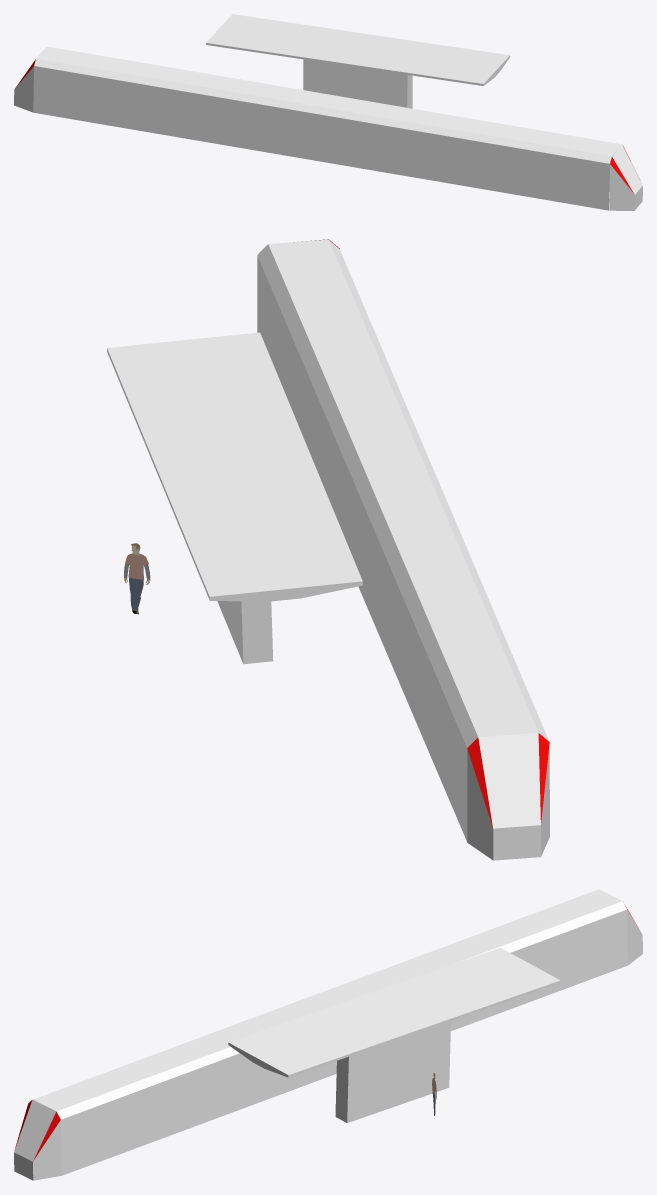
Rendered from 3D-Tram.gltf.
3 renders of one model, top to bottom at view 1: azimuth 30°, elevation 25°; view 2: azimuth 150°, elevation 25°; view 3: azimuth 270°, elevation 25°, orthographic. The views are drawn at different scales.
Visible parts, largest first — view 1: Layer0_001; view 2: Layer0_001, Bryce_003; view 3: Layer0_001.
Boxes of the visible parts, x1,y1,x2,y2 form: Layer0_001: [14, 14, 642, 210]; Layer0_001: [107, 239, 549, 860]; Bryce_003: [124, 543, 150, 614]; Layer0_001: [14, 889, 642, 1180].
Size of the model in its own units: 20.43 by 3.99 by 24.14.
